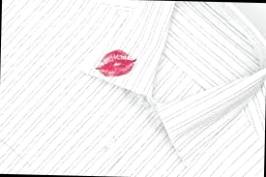lipstick: (100, 50, 136, 76)
